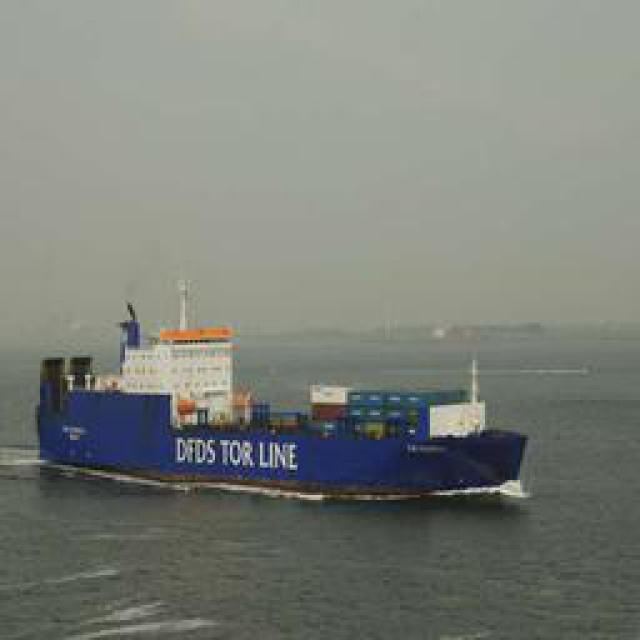Ship: (32, 270, 530, 502)
